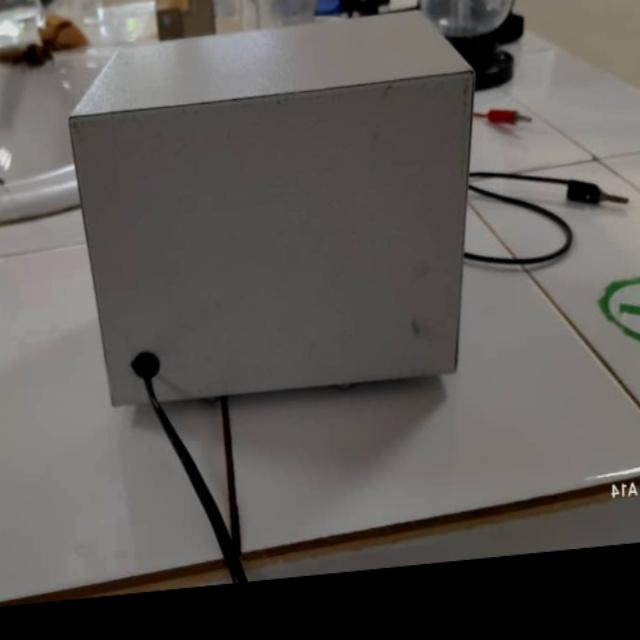Power Supply: (65, 23, 507, 434)
